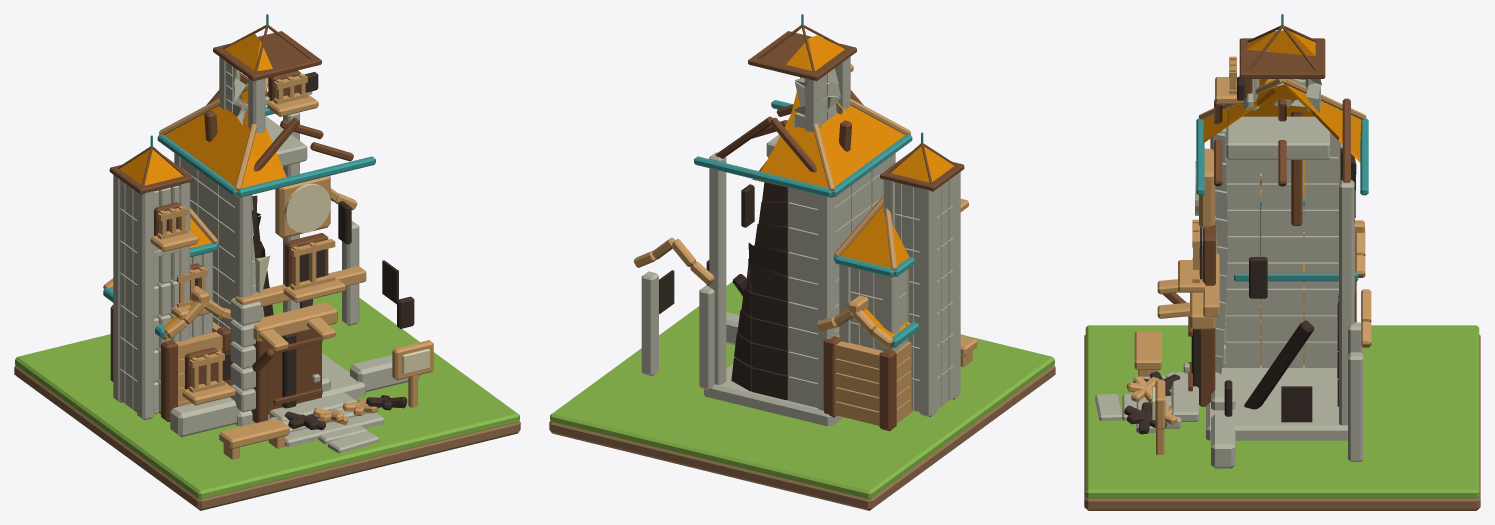
The model's file is town_hall_l08_damaged_LOD0.glb.
3 views of the same model, side by side, from view 1: azimuth 30°, elevation 25°; view 2: azimuth 150°, elevation 25°; view 3: azimuth 270°, elevation 25° (orthographic). The views are drawn at different scales.
Visible parts, largest first — view 1: town_hall_l08_damaged_grass_tile, town_hall_l08_damaged_earth_tile, town_hall_l08_damaged_corner_reinforcement.020, town_hall_l08_damaged_hip_roof_shingle.011, town_hall_l08_damaged_door_recess, town_hall_l08_damaged_central_spire_cornice, town_hall_l08_damaged_stone_foundation_course, town_hall_l08_damaged_clock_face, town_hall_l08_damaged_corner_reinforcement.021, town_hall_l08_damaged_corner_reinforcement, town_hall_l08_damaged_door_lintel, town_hall_l08_damaged_foundation (+35 smaller); view 2: town_hall_l08_damaged_grass_tile, town_hall_l08_damaged_earth_tile, town_hall_l08_damaged_corner_reinforcement.021, town_hall_l08_damaged_corner_reinforcement.003, town_hall_l08_damaged_corner_reinforcement.001, town_hall_l08_damaged_hip_roof_shingle.011, town_hall_l08_damaged_foundation, town_hall_l08_damaged_central_spire_cornice, town_hall_l08_damaged_corner_reinforcement.011, town_hall_l08_damaged_corner_reinforcement.009, town_hall_l08_damaged_corner_reinforcement.020, town_hall_l08_damaged_hip_roof_shingle.008 (+38 smaller); view 3: town_hall_l08_damaged_grass_tile, town_hall_l08_damaged_foundation, town_hall_l08_damaged_earth_tile, town_hall_l08_damaged_surviving_tower_course, town_hall_l08_damaged_corner_reinforcement.003, town_hall_l08_damaged_central_spire_cornice, town_hall_l08_damaged_corner_reinforcement.011, town_hall_l08_damaged_collapsed_roof_beam, town_hall_l08_damaged_stone_foundation_course.002, town_hall_l08_damaged_door_recess, town_hall_l08_damaged_window_glass.002, town_hall_l08_damaged_wall_siding.031 (+45 smaller).
Part boxes in pixels (bbox=[...]): town_hall_l08_damaged_grass_tile: bbox=[15, 292, 519, 499]; town_hall_l08_damaged_earth_tile: bbox=[14, 365, 520, 510]; town_hall_l08_damaged_corner_reinforcement.020: bbox=[137, 191, 154, 420]; town_hall_l08_damaged_hip_roof_shingle.011: bbox=[164, 118, 243, 196]; town_hall_l08_damaged_door_recess: bbox=[268, 329, 321, 414]; town_hall_l08_damaged_central_spire_cornice: bbox=[213, 31, 321, 81]; town_hall_l08_damaged_stone_foundation_course: bbox=[170, 397, 239, 437]; town_hall_l08_damaged_clock_face: bbox=[284, 183, 330, 232]; town_hall_l08_damaged_corner_reinforcement.021: bbox=[113, 175, 122, 402]; town_hall_l08_damaged_corner_reinforcement: bbox=[235, 195, 251, 411]; town_hall_l08_damaged_door_lintel: bbox=[253, 302, 337, 341]; town_hall_l08_damaged_foundation: bbox=[235, 353, 365, 426]; town_hall_l08_damaged_grass_tile: bbox=[550, 281, 1054, 499]; town_hall_l08_damaged_earth_tile: bbox=[549, 365, 1055, 510]; town_hall_l08_damaged_corner_reinforcement.021: bbox=[919, 188, 936, 417]; town_hall_l08_damaged_corner_reinforcement.003: bbox=[709, 152, 726, 384]; town_hall_l08_damaged_corner_reinforcement.001: bbox=[818, 195, 834, 410]; town_hall_l08_damaged_hip_roof_shingle.011: bbox=[826, 118, 905, 196]; town_hall_l08_damaged_foundation: bbox=[704, 364, 843, 426]; town_hall_l08_damaged_central_spire_cornice: bbox=[748, 31, 856, 81]; town_hall_l08_damaged_corner_reinforcement.011: bbox=[641, 271, 658, 376]; town_hall_l08_damaged_corner_reinforcement.009: bbox=[699, 285, 714, 390]; town_hall_l08_damaged_corner_reinforcement.020: bbox=[951, 172, 960, 399]; town_hall_l08_damaged_hip_roof_shingle.008: bbox=[752, 148, 832, 197]; town_hall_l08_damaged_grass_tile: bbox=[1085, 325, 1479, 498]; town_hall_l08_damaged_foundation: bbox=[1206, 365, 1347, 440]; town_hall_l08_damaged_earth_tile: bbox=[1084, 335, 1480, 510]; town_hall_l08_damaged_surviving_tower_course: bbox=[1226, 116, 1329, 159]; town_hall_l08_damaged_corner_reinforcement.003: bbox=[1339, 180, 1354, 425]; town_hall_l08_damaged_central_spire_cornice: bbox=[1239, 38, 1325, 78]; town_hall_l08_damaged_corner_reinforcement.011: bbox=[1348, 352, 1363, 461]; town_hall_l08_damaged_collapsed_roof_beam: bbox=[1244, 320, 1314, 409]; town_hall_l08_damaged_stone_foundation_course.002: bbox=[1211, 414, 1235, 468]; town_hall_l08_damaged_door_recess: bbox=[1199, 328, 1215, 406]; town_hall_l08_damaged_window_glass.002: bbox=[1281, 386, 1312, 422]; town_hall_l08_damaged_wall_siding.031: bbox=[1261, 288, 1303, 315].
Size of the model in its own units: 3.6 by 4.16 by 3.6.
